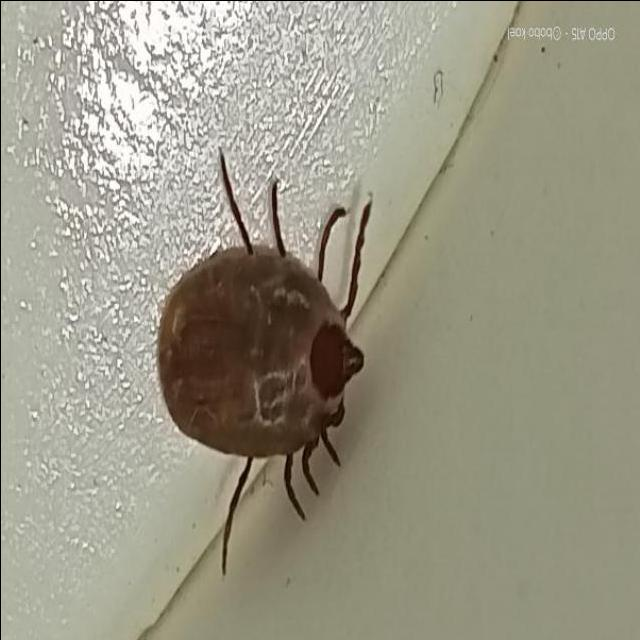Rhipicephalus Sanguineus-F-Fed: (155, 146, 371, 575)
